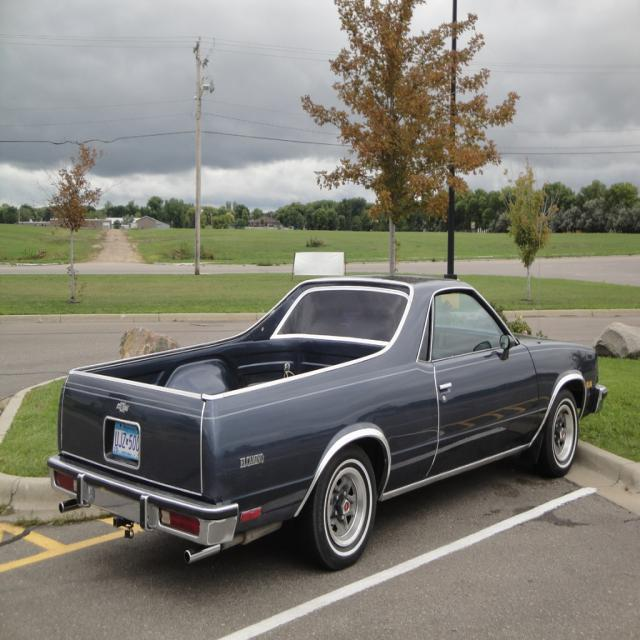car: (39, 276, 575, 578)
